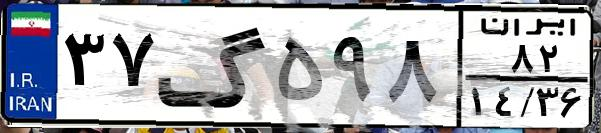1: (470, 70, 495, 125)
2: (537, 27, 568, 80)
3: (57, 26, 110, 100), (535, 70, 560, 125)
4: (495, 70, 520, 125)
5: (270, 28, 330, 110)
6: (560, 70, 590, 125)
7: (110, 28, 156, 98)
8: (385, 28, 445, 110), (508, 27, 537, 80)
9: (330, 28, 385, 110)
گ: (156, 12, 270, 120)
